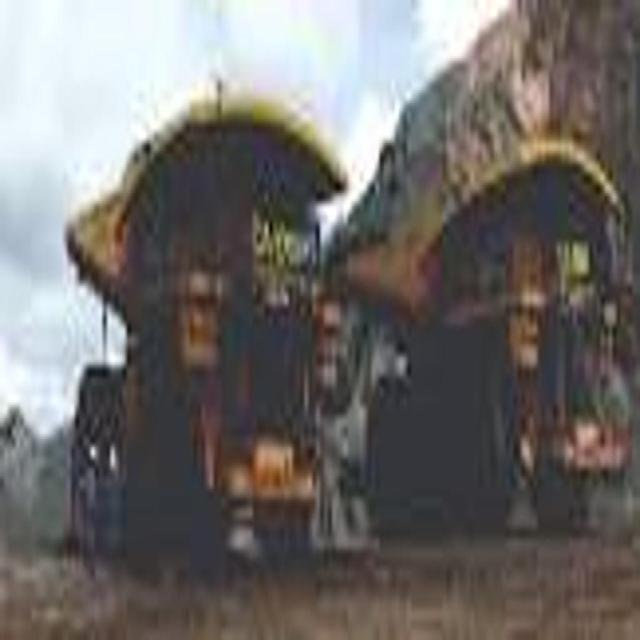dump_truck: (59, 64, 335, 577), (340, 106, 631, 554)
